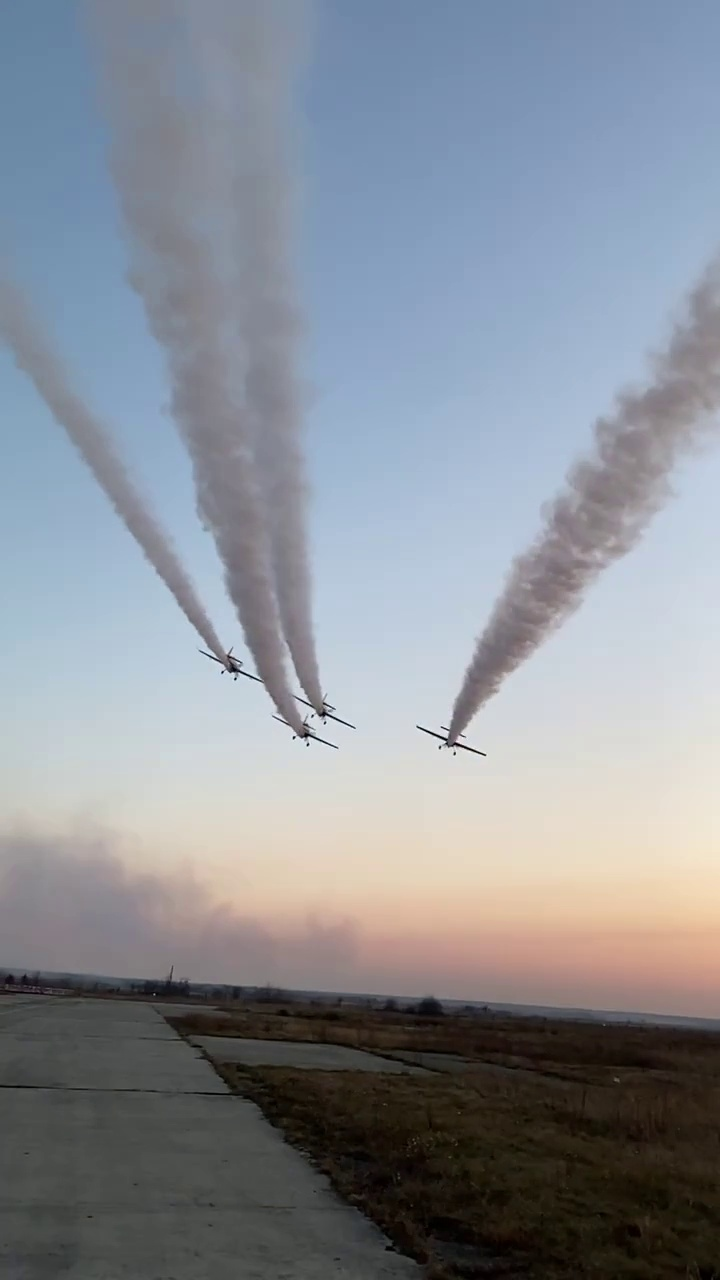plane: (286, 687, 356, 730), (200, 646, 267, 683), (268, 712, 336, 746), (415, 724, 484, 756)
